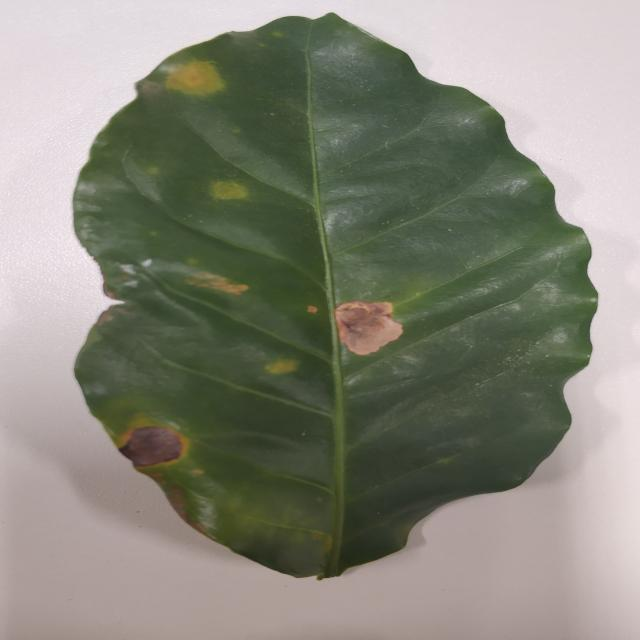Enfermedad-Roya: (71, 13, 600, 583)
